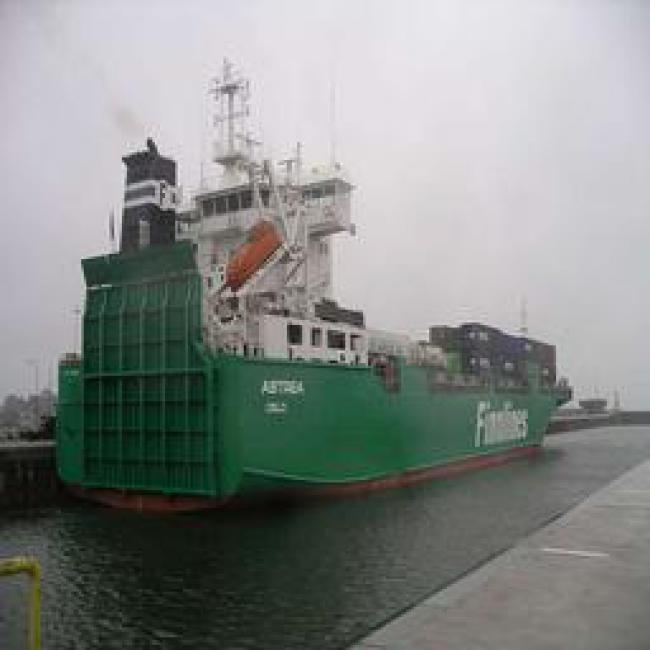Ship: (78, 165, 562, 489)
